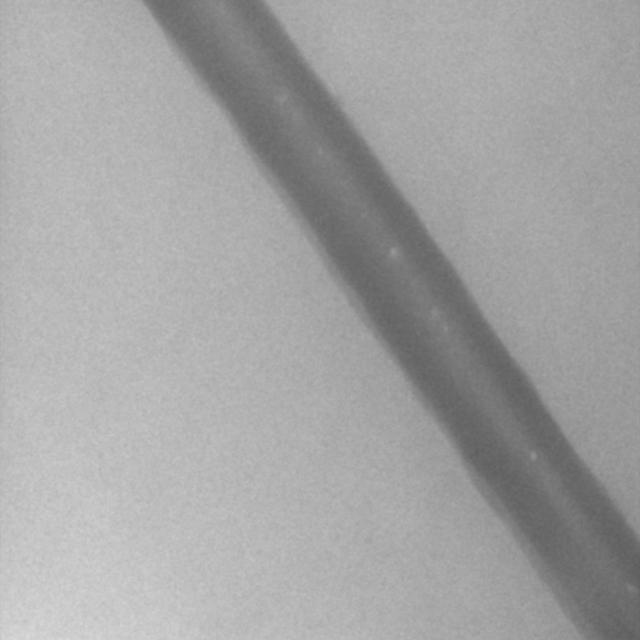air hole: (388, 243, 399, 259), (528, 450, 537, 463)
